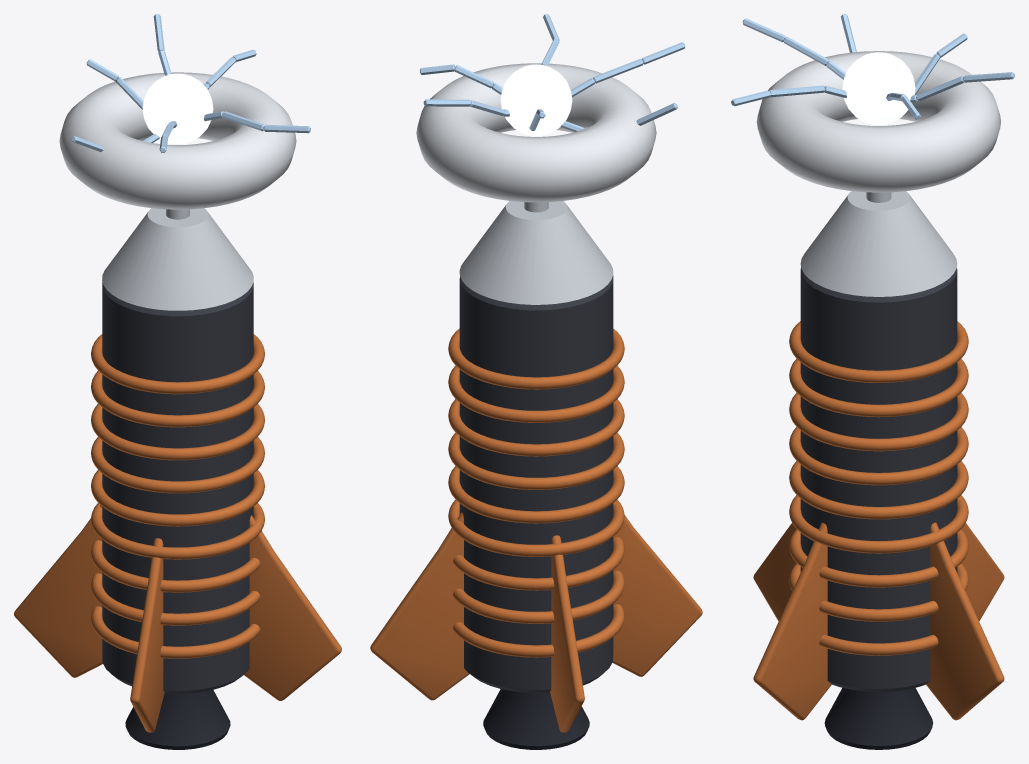
File: Rocket_25_TeslaCoil.fbx
3 renders of one model, left to right at view 1: azimuth 30°, elevation 25°; view 2: azimuth 150°, elevation 25°; view 3: azimuth 270°, elevation 25°, orthographic. The views are drawn at different scales.
Visible parts, largest first — view 1: R25_Body, R25_Toroid, R25_Neck, R25_Fin_4, R25_Fin_2, R25_Nozzle, R25_Fin_3, R25_Top, R25_Coil_9, R25_Coil_6, R25_Coil_8, R25_Coil_5 (+5 smaller); view 2: R25_Body, R25_Toroid, R25_Neck, R25_Fin, R25_Fin_3, R25_Nozzle, R25_Fin_2, R25_Top, R25_Coil_9, R25_Coil_5, R25_Coil_7, R25_Coil_6 (+5 smaller); view 3: R25_Body, R25_Toroid, R25_Neck, R25_Fin_4, R25_Fin, R25_Nozzle, R25_Top, R25_Coil_9, R25_Coil_5, R25_Coil_6, R25_Coil_7, R25_Coil_8 (+6 smaller).
Boxes of the visible parts, x1,y1,x2,y2 form: R25_Body: (102, 282, 253, 693); R25_Toroid: (59, 72, 296, 209); R25_Neck: (102, 208, 253, 310); R25_Fin_4: (244, 515, 341, 700); R25_Fin_2: (14, 505, 102, 677); R25_Nozzle: (125, 690, 230, 749); R25_Fin_3: (130, 538, 164, 732); R25_Top: (142, 73, 213, 144); R25_Coil_9: (91, 334, 264, 394); R25_Coil_6: (91, 437, 264, 493); R25_Coil_8: (91, 371, 264, 427); R25_Coil_5: (91, 470, 264, 526); R25_Body: (459, 275, 613, 692); R25_Toroid: (416, 63, 656, 202); R25_Neck: (459, 201, 613, 304); R25_Fin: (370, 512, 469, 700); R25_Fin_3: (612, 502, 702, 676); R25_Nozzle: (483, 689, 589, 749); R25_Fin_2: (550, 535, 584, 732); R25_Top: (500, 64, 572, 135); R25_Coil_9: (448, 328, 624, 389); R25_Coil_5: (448, 466, 624, 523); R25_Coil_7: (448, 399, 624, 456); R25_Coil_6: (448, 432, 624, 489); R25_Body: (800, 267, 957, 691); R25_Toroid: (756, 51, 1000, 192); R25_Neck: (800, 191, 957, 296); R25_Fin_4: (753, 522, 831, 720); R25_Fin: (926, 522, 1004, 720); R25_Nozzle: (824, 688, 933, 749); R25_Top: (842, 52, 915, 124); R25_Coil_9: (789, 321, 968, 382); R25_Coil_5: (789, 461, 968, 519); R25_Coil_6: (789, 427, 968, 485); R25_Coil_7: (789, 393, 968, 451); R25_Coil_8: (789, 358, 968, 417).
Bounding box in the file's own units: 2.6 × 7.15 × 2.72.
